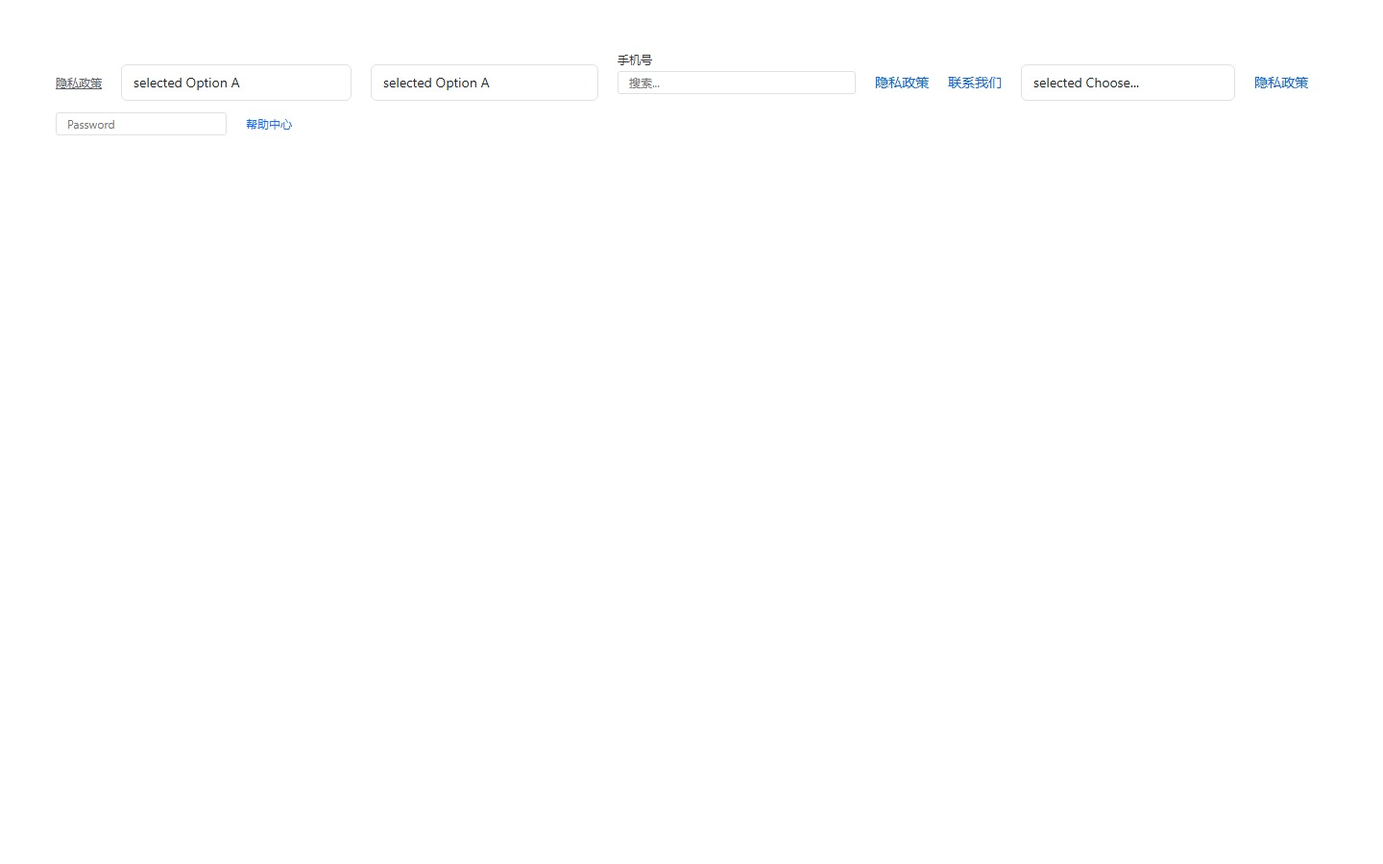input: (618, 71, 856, 94), (56, 112, 227, 135)
link: (875, 73, 929, 91), (948, 73, 1002, 91), (1254, 73, 1308, 91), (56, 75, 102, 90), (246, 116, 292, 131)
select: (121, 64, 352, 100), (371, 64, 598, 100), (1021, 64, 1235, 100)
